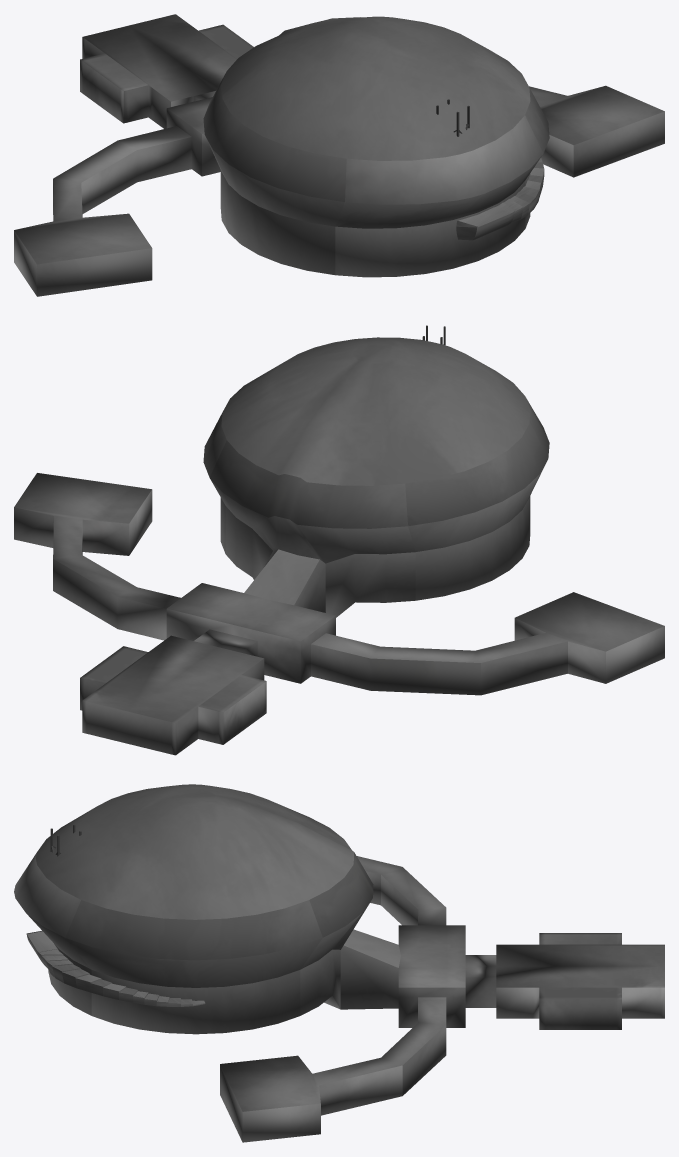
File: newShika_Arena.fbx
3 views of the same model, one above another, from view 1: azimuth 30°, elevation 25°; view 2: azimuth 150°, elevation 25°; view 3: azimuth 270°, elevation 25° (orthographic). The views are drawn at different scales.
Parts seen in each view (by area): view 1: Circle, Cube; view 2: Circle; view 3: Circle, Cube.
Part boxes in pixels (x1,y1,x2,y2): Circle: [14, 14, 664, 296]; Cube: [456, 158, 544, 240]; Circle: [14, 337, 664, 755]; Circle: [14, 784, 664, 1142]; Cube: [26, 931, 205, 1006].
Bounding box in the file's own units: 8448 × 2709 × 7973.
